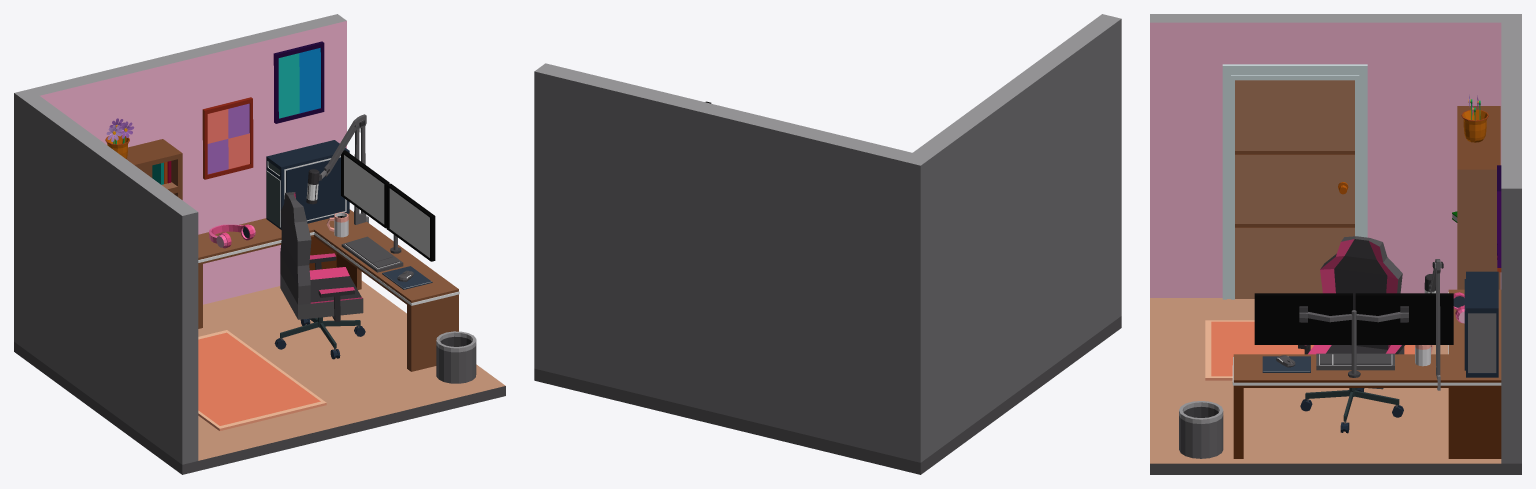
Rendered from SalaStreamer.fbx.
3 views of the same model, side by side, from view 1: azimuth 30°, elevation 25°; view 2: azimuth 150°, elevation 25°; view 3: azimuth 270°, elevation 25° (orthographic). The views are drawn at different scales.
Parts seen in each view (by area): view 1: Estrutura.002, Cube.078, Cube.115, Cube.079, Cube.086, Cube.116, Cube.113, Cylinder.053, Cube.119, Cube.118, Cube.087, Cube.082 (+7 smaller); view 2: Estrutura.002; view 3: Estrutura.002, Cube.078, Cube.114, Cube.087, Cube.081, Cube.079, Cube.080, Cube.086, Cube.115, Cylinder.053, Cube.082, Cylinder.045 (+6 smaller).
Boxes of the visible parts, x1=… form: Estrutura.002: x1=14, y1=14, x2=505, y2=474; Cube.078: x1=198, y1=209, x2=458, y2=371; Cube.115: x1=198, y1=330, x2=326, y2=430; Cube.079: x1=280, y1=192, x2=363, y2=321; Cube.086: x1=266, y1=140, x2=349, y2=229; Cube.116: x1=273, y1=41, x2=324, y2=123; Cube.113: x1=202, y1=97, x2=253, y2=179; Cylinder.053: x1=436, y1=331, x2=476, y2=383; Cube.119: x1=389, y1=188, x2=429, y2=257; Cube.118: x1=344, y1=155, x2=384, y2=224; Cube.087: x1=126, y1=139, x2=182, y2=199; Cube.082: x1=341, y1=236, x2=403, y2=272; Estrutura.002: x1=534, y1=14, x2=1121, y2=474; Estrutura.002: x1=1150, y1=14, x2=1521, y2=474; Cube.078: x1=1233, y1=289, x2=1501, y2=458; Cube.114: x1=1222, y1=64, x2=1367, y2=299; Cube.087: x1=1457, y1=106, x2=1500, y2=289; Cube.081: x1=1254, y1=293, x2=1352, y2=344; Cube.079: x1=1298, y1=236, x2=1404, y2=389; Cube.080: x1=1355, y1=293, x2=1453, y2=344; Cube.086: x1=1464, y1=271, x2=1498, y2=377; Cube.115: x1=1205, y1=320, x2=1414, y2=380; Cylinder.053: x1=1179, y1=401, x2=1223, y2=458; Cube.082: x1=1316, y1=353, x2=1394, y2=370; Cylinder.045: x1=1299, y1=306, x2=1408, y2=377.
Bounding box in the file's own units: 200 × 153 × 180.
8 materials, 1 textured.
